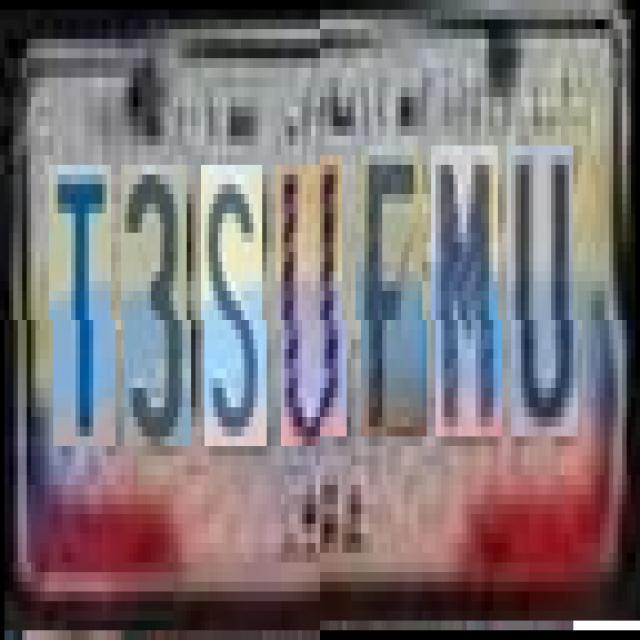3: (125, 165, 191, 446)
F: (360, 155, 427, 446)
M: (436, 155, 502, 446)
S: (204, 165, 266, 446)
T: (54, 165, 115, 446)
U: (511, 155, 578, 446), (280, 165, 347, 446)
